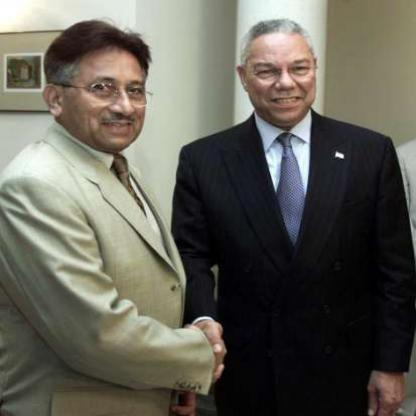face: (61, 33, 156, 153), (246, 23, 318, 124)
